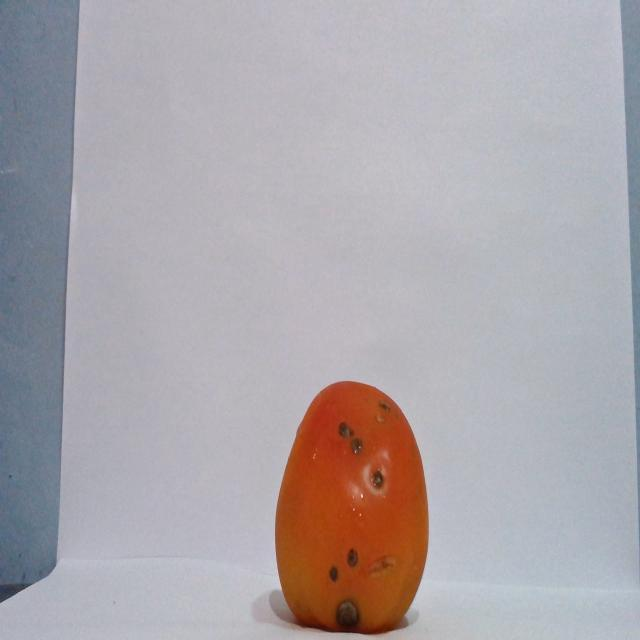Red: (273, 379, 430, 634)
